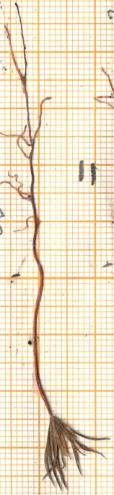flower: (33, 406, 109, 495)
root: (0, 0, 61, 273)
stem: (25, 273, 53, 412)
